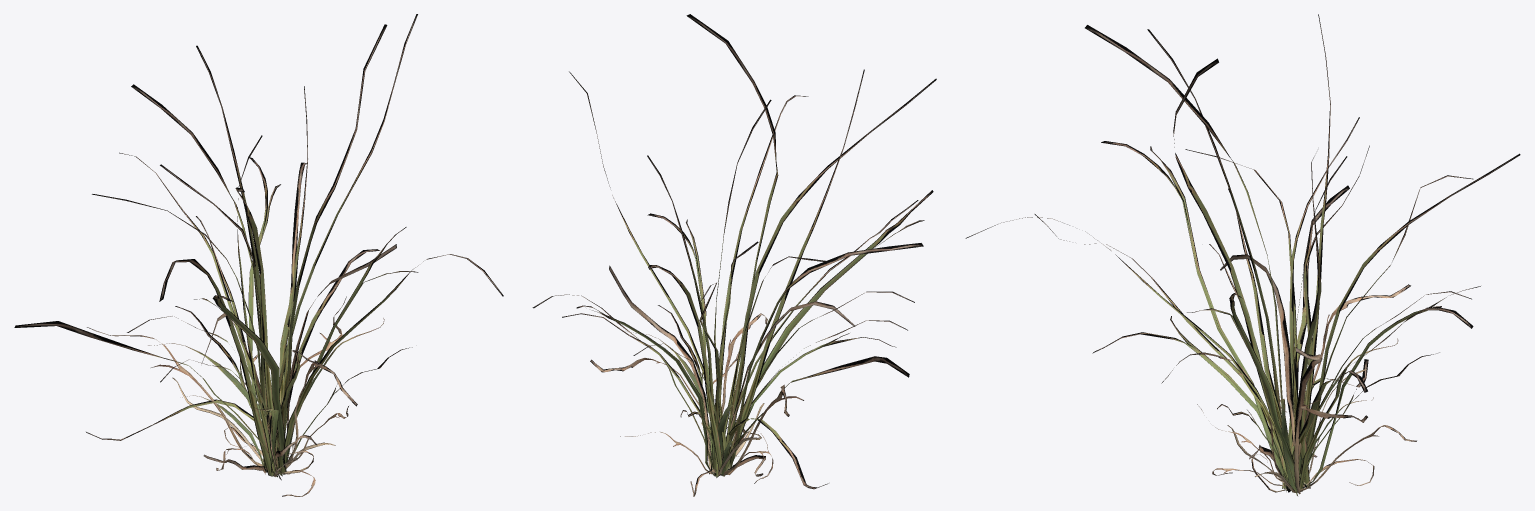
The model's file is grass_medium_02_e.glb.
3 renders of one model, left to right at view 1: azimuth 30°, elevation 25°; view 2: azimuth 150°, elevation 25°; view 3: azimuth 270°, elevation 25°, orthographic. The views are drawn at different scales.
Visible parts, largest first — view 1: grass_medium_02_e; view 2: grass_medium_02_e; view 3: grass_medium_02_e.
Boxes of the visible parts, box(x1,y1,x2,y2) form: grass_medium_02_e: box(14, 14, 503, 496); grass_medium_02_e: box(532, 14, 936, 496); grass_medium_02_e: box(965, 14, 1520, 495).
Size of the model in its own units: 0.3556 by 0.4032 by 0.4332.
1 material, 1 textured.
